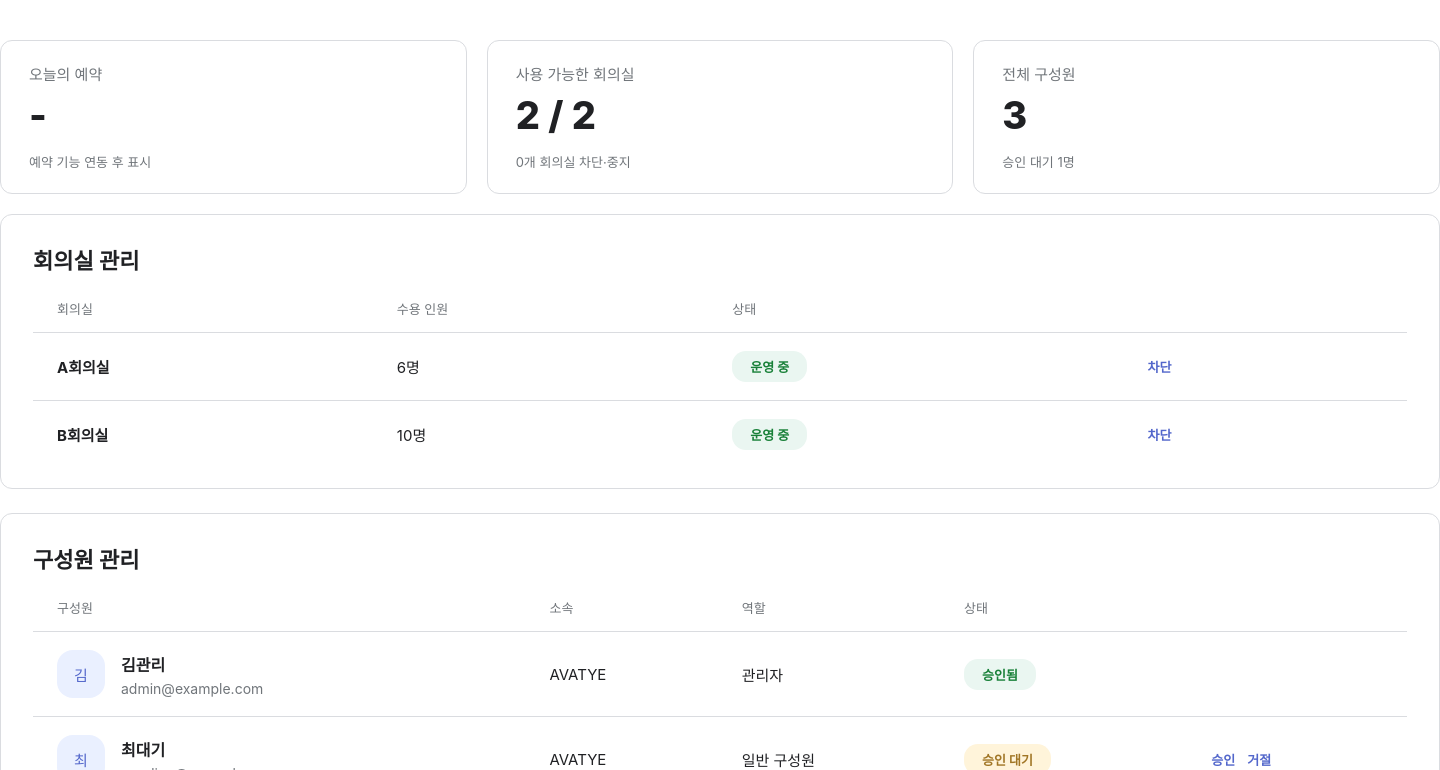
Test: AdminPage › 가입을 승인하면 승인됨으로 바뀐다
Expected: the text "최대기" is shown, 121,740 -> 165,760
Click the button "승인".
click(1223, 759)  # box 1211,750 -> 1235,768
(page scrolled)
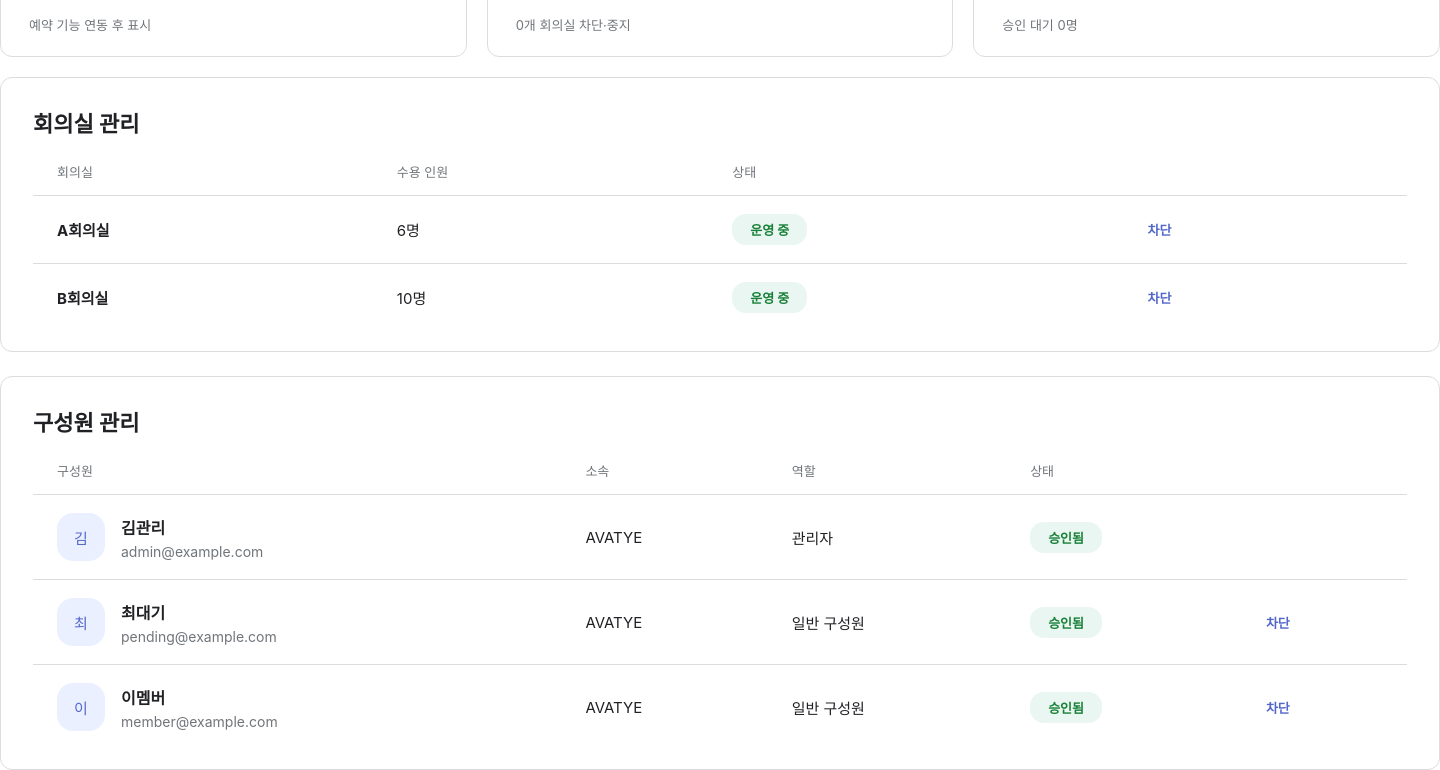
Expected: the text "승인됨" in the row of "최대기" is shown, 1048,614 -> 1084,630
